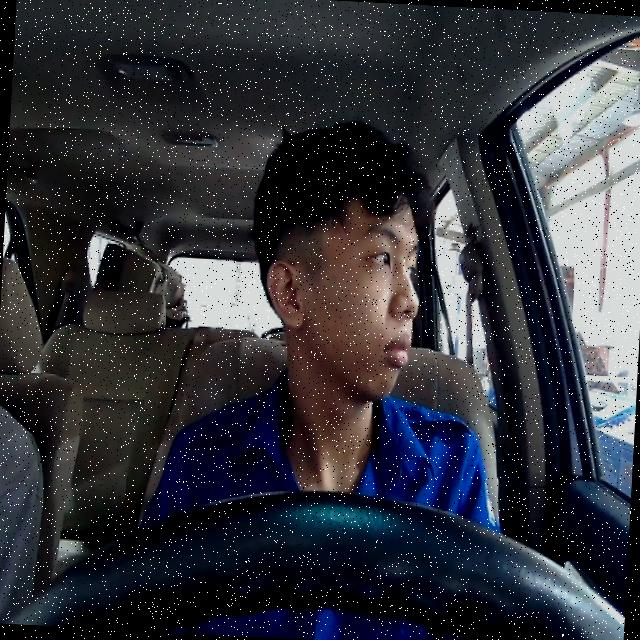seeing_right: (256, 177, 425, 406)
